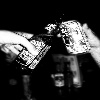beer: (23, 1, 71, 72)
